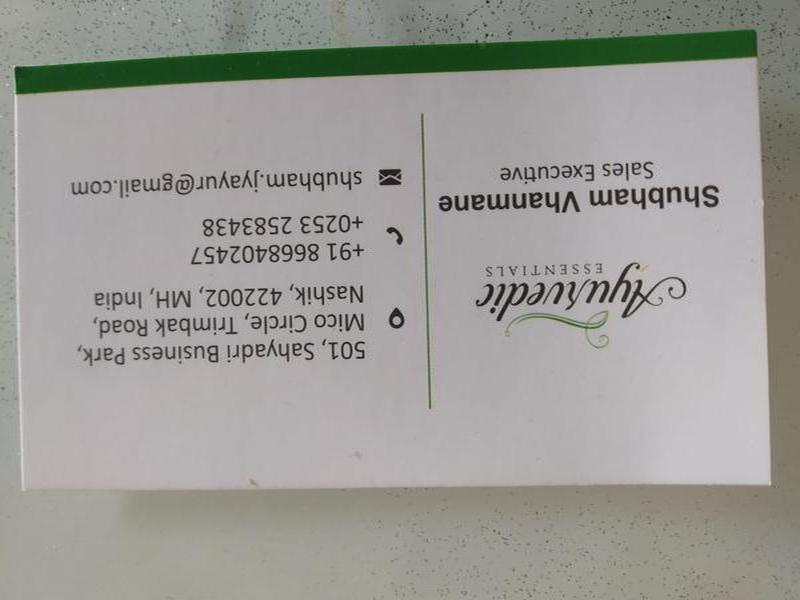card: (14, 30, 776, 491)
